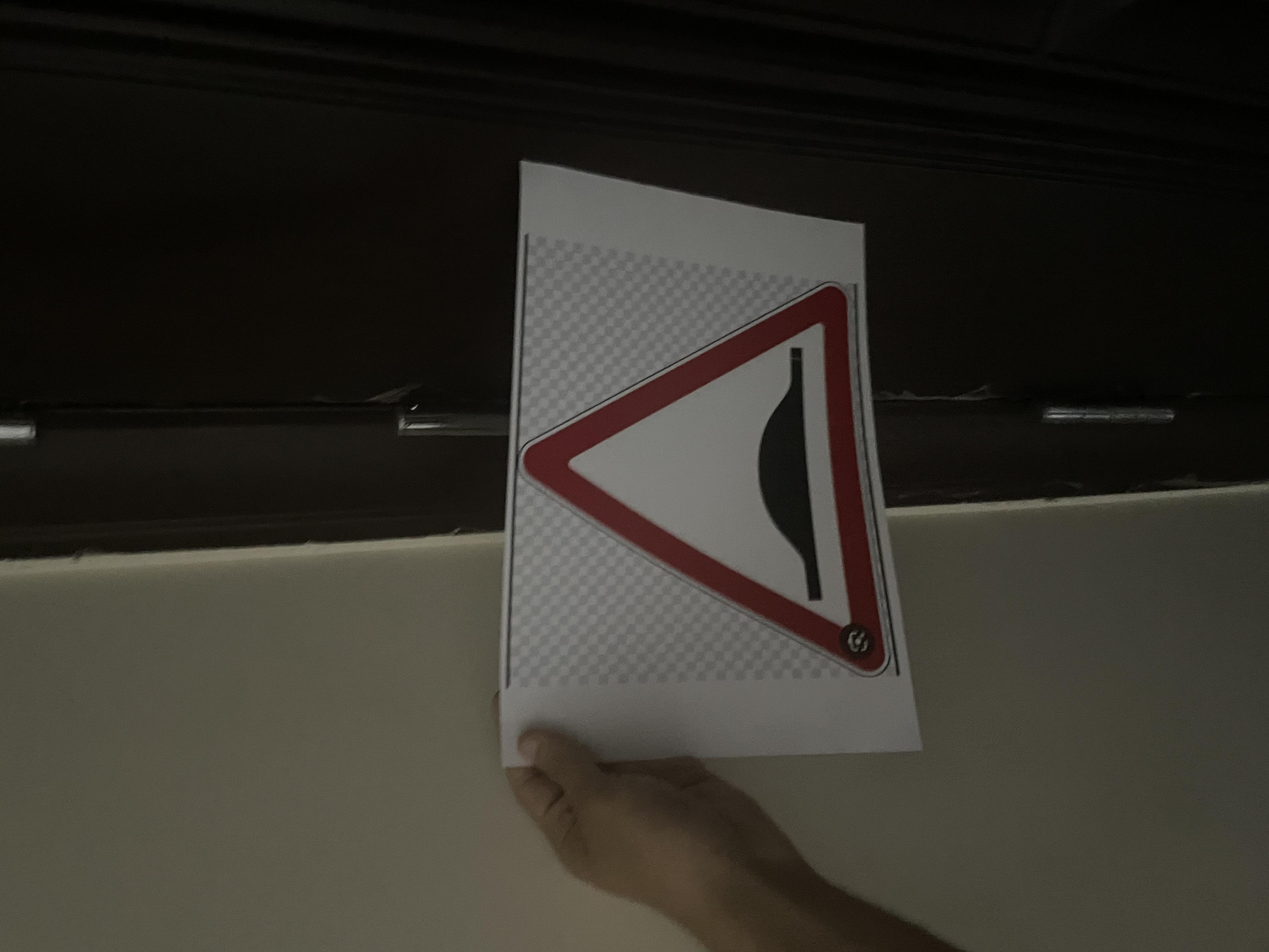Hump: (365, 388, 911, 666)
